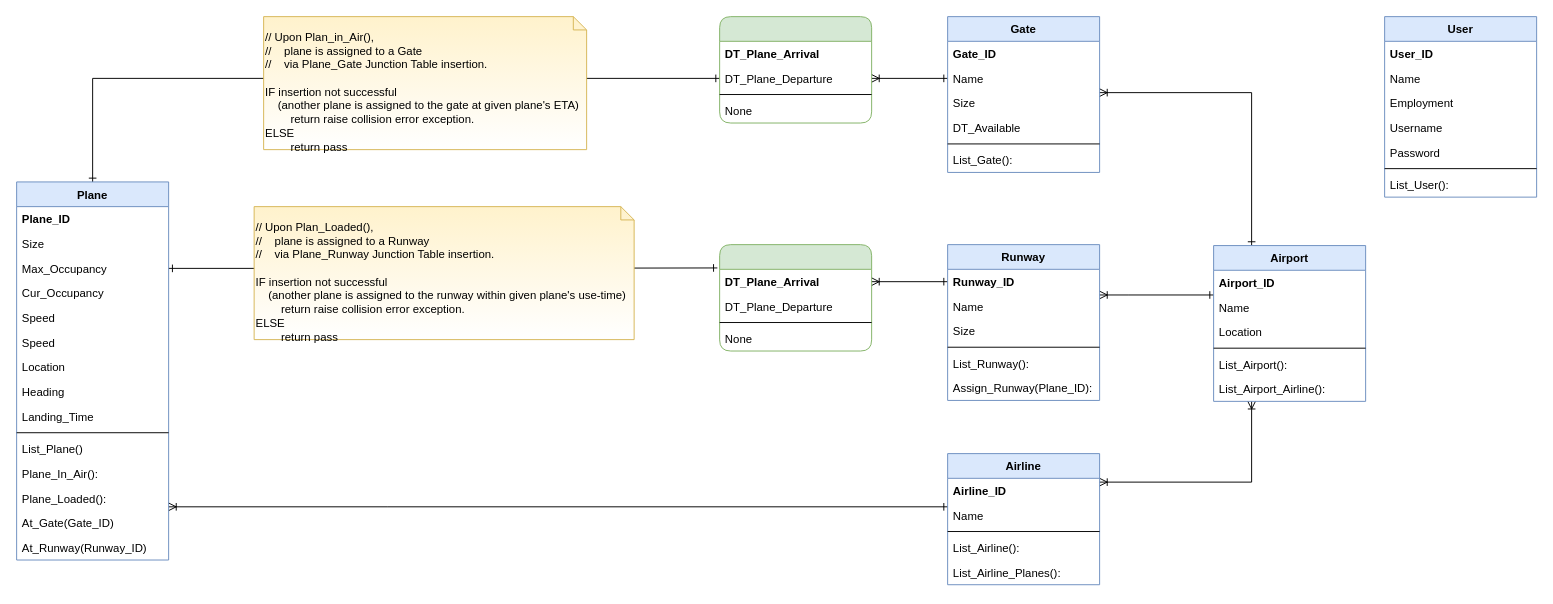
Some shapes in this 1553 by 604 pixel diagram are drawn without their labels. The shapes that lost their labels are listed below. From the top down, each one's box as (x1, y1, x2, y2) in pixels, then its label:
(719, 16, 872, 123): Plane_Gate
(719, 244, 872, 351): Plane_Runway
